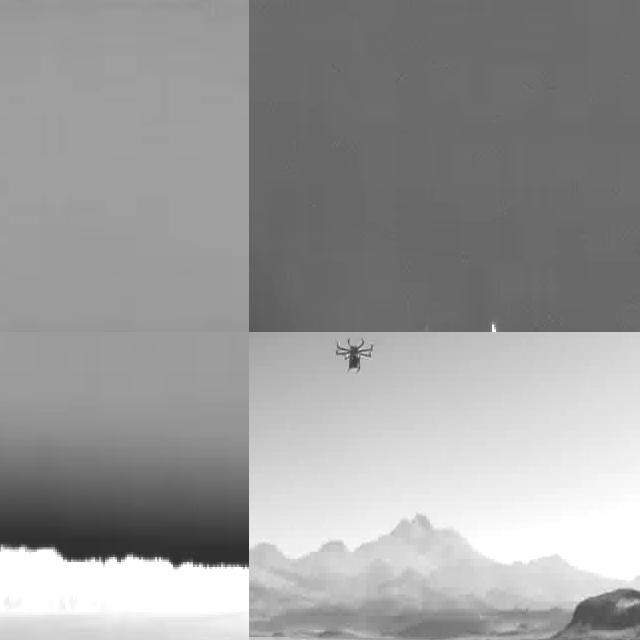0: (414, 320, 440, 332)
drone: (334, 332, 378, 381)
